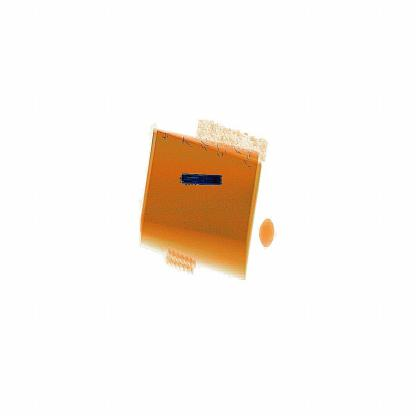scissors: (180, 171, 226, 193)
